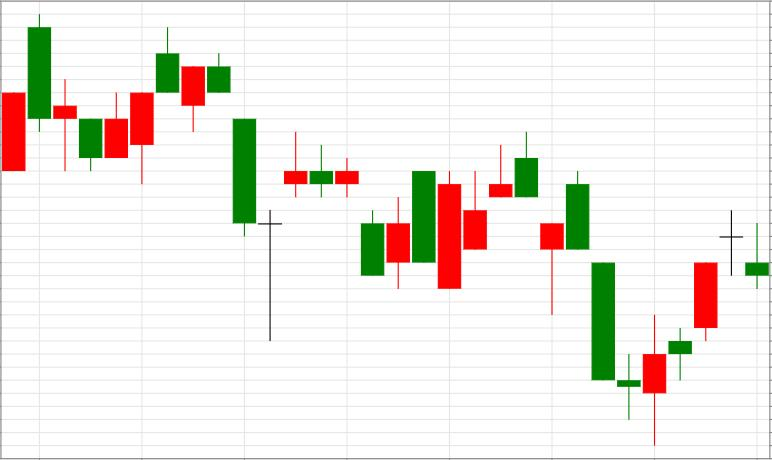evening_star_fall: (617, 209, 768, 446)
